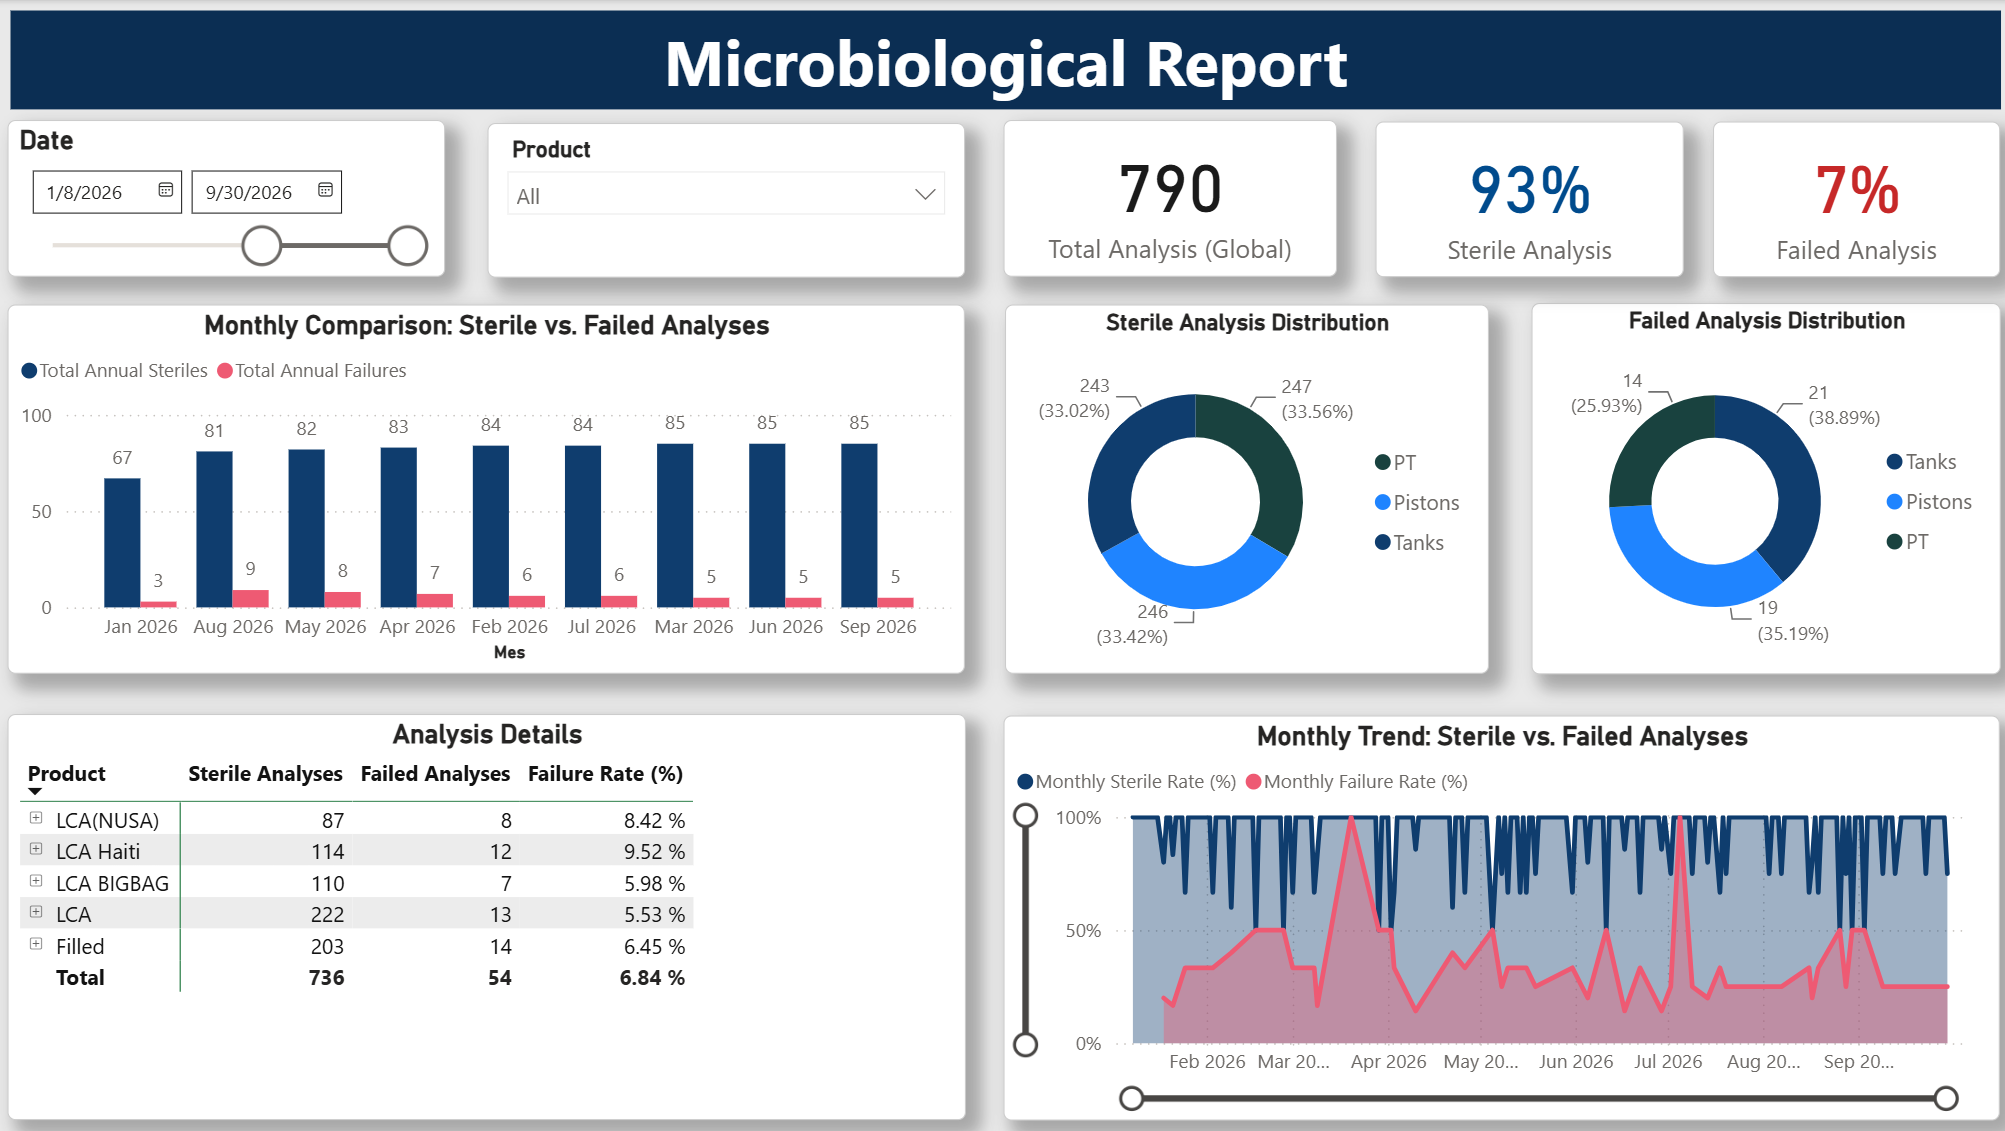

What the dashboard file says about the page in this screenshot:
{"tool":"powerbi","page":{"name":"GENERAL","canvas":[1280,720],"ordinal":0},"visuals":[{"type":"shape","box":[10,6.4,1261.4,62.9],"z":0},{"type":"slicer","title":"Date","fields":{"Values":["Dim_Fecha.Date"]},"box":[8.9,76.3,277.2,99.2],"z":1000},{"type":"donutChart","title":"Failed Analysis Distribution","fields":{"Category":["DimFuente.Source_EN"],"Y":["DimFuente.Estropeados (por Fuente)"]},"box":[973.9,192,297.5,235.2],"z":2000},{"type":"slicer","fields":{"Values":["DimProducto.Producto"]},"box":[312.8,77.6,302.6,97.9],"z":3000},{"type":"card","fields":{"Values":["Dim_Lote.% Estériles (base SE)"]},"box":[875.6,76.7,195.6,98.9],"z":4000},{"type":"card","fields":{"Values":["Dim_Lote.% Estropeados (base SE)"]},"box":[1088.9,76.7,182.2,98.9],"z":5000},{"type":"card","fields":{"Values":["Dim_Lote.Total Análisis (Global)"]},"box":[639.5,76.3,211,99.2],"z":6000},{"type":"clusteredColumnChart","title":"Monthly Comparison: Sterile vs. Failed Analyses","fields":{"Category":["Dim_Fecha.Mes-Año"],"Y":["Dim_Lote.Total Estériles (Global)","Dim_Lote.Total Estropeados (Global)"]},"box":[8.9,193.2,606.4,233.9],"z":7000},{"type":"areaChart","title":"Monthly Trend: Sterile vs. Failed Analyses","fields":{"Category":["Dim_Fecha.Date.Variación.Date Hierarchy.Year","Dim_Fecha.Date.Variación.Date Hierarchy.Month","Dim_Fecha.Date.Variación.Date Hierarchy.Day"],"Y":["Dim_Fecha.% Estériles Mes (Global)","Dim_Fecha.% Estropeados Mes (Global)"]},"box":[640,453.3,631.1,256.7],"z":8000},{"type":"donutChart","title":"Sterile Analysis Distribution","fields":{"Category":["DimFuente.Source_EN"],"Y":["DimFuente.Esteriles (por Fuente)"]},"box":[640.8,193.2,306.4,233.9],"z":9000},{"type":"pivotTable","title":"Analysis Details","fields":{"Rows":["DimProducto.Producto","DimFuente.Source_EN"],"Values":["DimFuente.Esteriles (por Fuente)","DimFuente.Estropeados (por Fuente)","DimFuente.% Estropeado (por Fuente)"]},"box":[8.6,452.9,607.1,257.1],"z":10000}]}

Visuals, with their boxes in screenshot pixels (x1, y1, x2, y2), scaled from the page's 1280x720 canvas onto the 2005x1131 screenshot:
shape: select_region(16, 10, 1992, 109)
"Date" slicer: select_region(14, 120, 448, 276)
"Failed Analysis Distribution" donutChart: select_region(1526, 302, 1992, 671)
slicer - DimProducto.Producto: select_region(490, 122, 964, 276)
card - Dim_Lote.% Estériles (base SE): select_region(1372, 120, 1678, 276)
card - Dim_Lote.% Estropeados (base SE): select_region(1706, 120, 1991, 276)
card - Dim_Lote.Total Análisis (Global): select_region(1002, 120, 1332, 276)
"Monthly Comparison: Sterile vs. Failed Analyses" clusteredColumnChart: select_region(14, 303, 964, 671)
"Monthly Trend: Sterile vs. Failed Analyses" areaChart: select_region(1002, 712, 1991, 1115)
"Sterile Analysis Distribution" donutChart: select_region(1004, 303, 1484, 671)
"Analysis Details" pivotTable: select_region(13, 711, 964, 1115)
